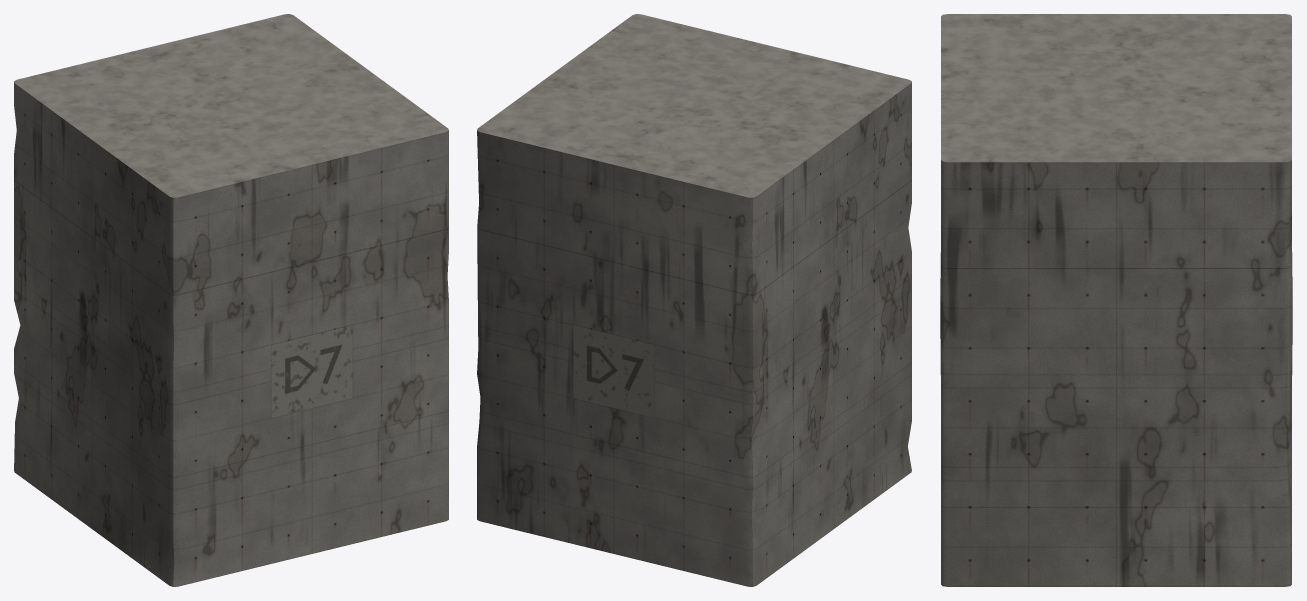
The model's file is giant_pillar.fbx.
3 views of the same model, side by side, from view 1: azimuth 30°, elevation 25°; view 2: azimuth 150°, elevation 25°; view 3: azimuth 270°, elevation 25° (orthographic). The views are drawn at different scales.
Visible parts, largest first — view 1: Body; view 2: Body; view 3: Body.
Part boxes in pixels (x1,y1,x2,y2): Body: (14, 14, 448, 586); Body: (477, 14, 911, 586); Body: (940, 14, 1292, 586).
Size of the model in its own units: 24 by 32 by 24.08.
1 material, 1 textured.
